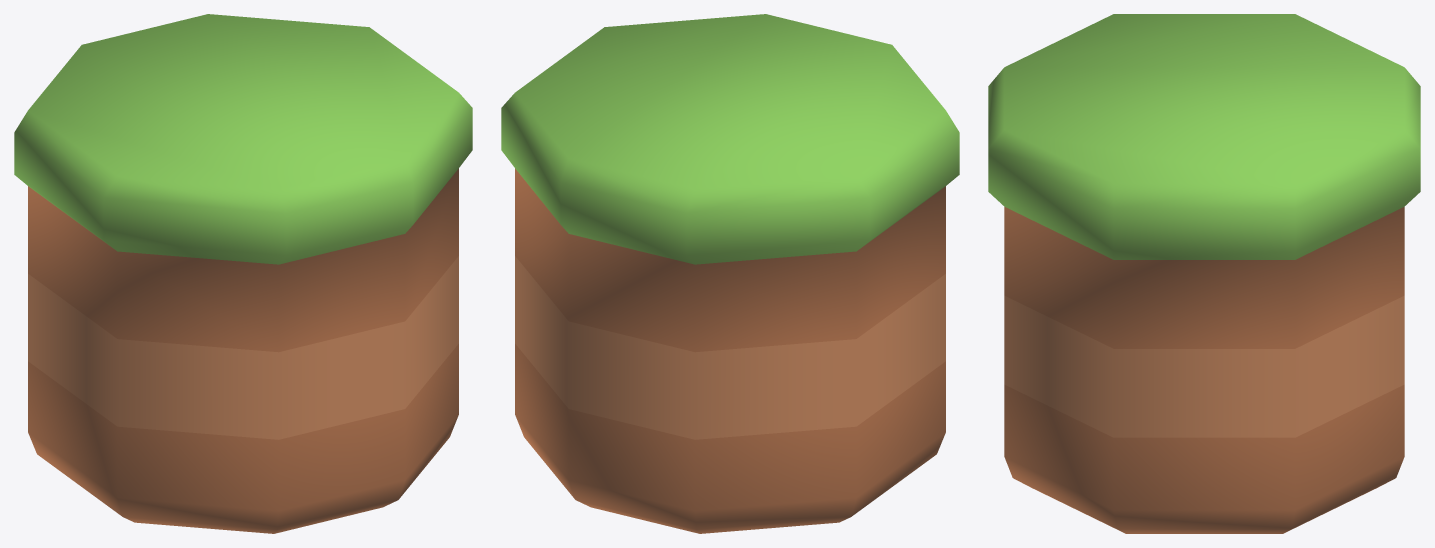
Rendered from small_mini_tile.glb.
The picture shows the model from 3 angles, left to right: view 1: azimuth 30°, elevation 25°; view 2: azimuth 150°, elevation 25°; view 3: azimuth 270°, elevation 25°; orthographic projection.
Visible parts, largest first — view 1: small_mini_tile; view 2: small_mini_tile; view 3: small_mini_tile.
Boxes of the visible parts, x1,y1,x2,y2 form: small_mini_tile: [14, 14, 472, 533]; small_mini_tile: [501, 14, 959, 533]; small_mini_tile: [988, 14, 1420, 533].
Size of the model in its own units: 0.54 by 0.4992 by 0.5398.
